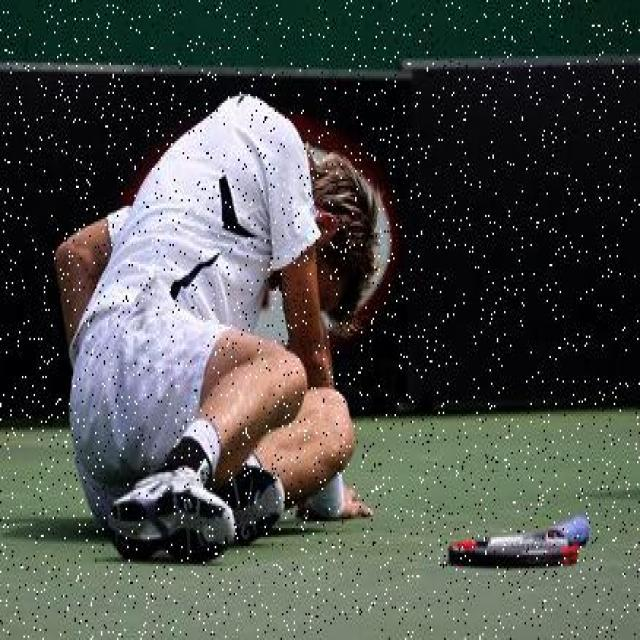fall: (60, 100, 377, 550)
